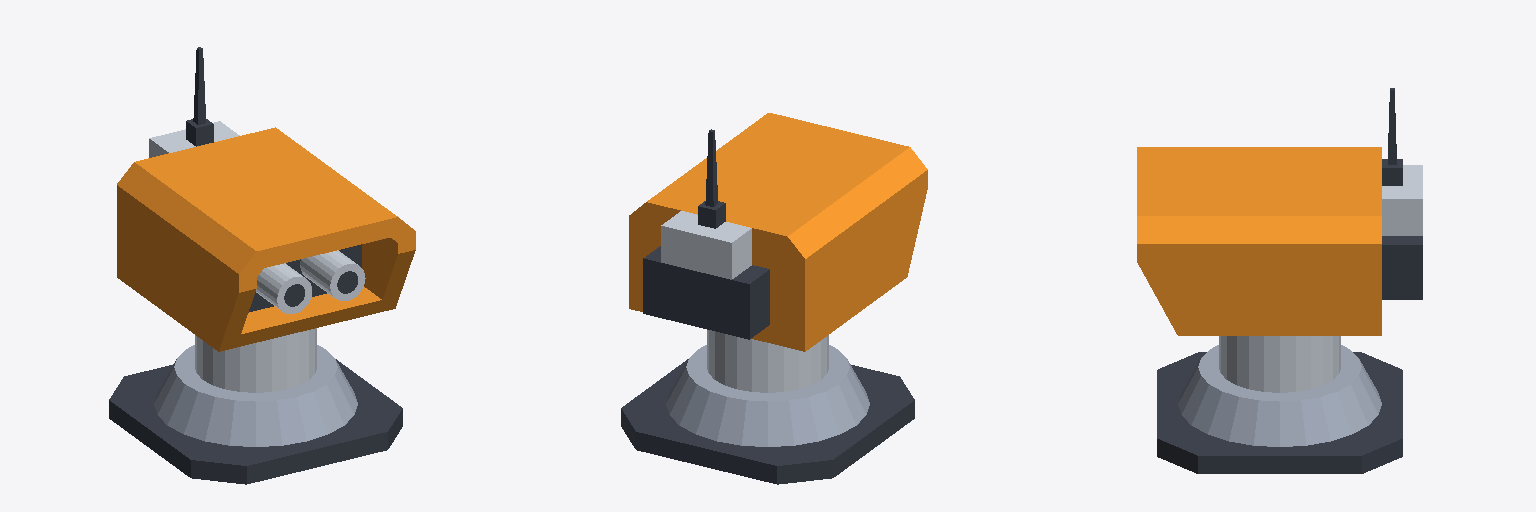
Rendered from turret_00.obj.
3 renders of one model, left to right at view 1: azimuth 30°, elevation 25°; view 2: azimuth 150°, elevation 25°; view 3: azimuth 270°, elevation 25°, orthographic.
Parts seen in each view (by area): view 1: turret_head_turret_double.002, turret_body_turret_double.001; view 2: turret_head_turret_double.002, turret_body_turret_double.001; view 3: turret_head_turret_double.002, turret_body_turret_double.001.
Boxes of the visible parts, x1,y1,x2,y2 form: turret_head_turret_double.002: [117, 47, 415, 351]; turret_body_turret_double.001: [109, 328, 402, 484]; turret_head_turret_double.002: [629, 113, 927, 351]; turret_body_turret_double.001: [621, 330, 914, 484]; turret_head_turret_double.002: [1137, 88, 1422, 335]; turret_body_turret_double.001: [1157, 336, 1402, 473].
Bounding box in the file's own units: 0.6 × 0.9 × 0.7.